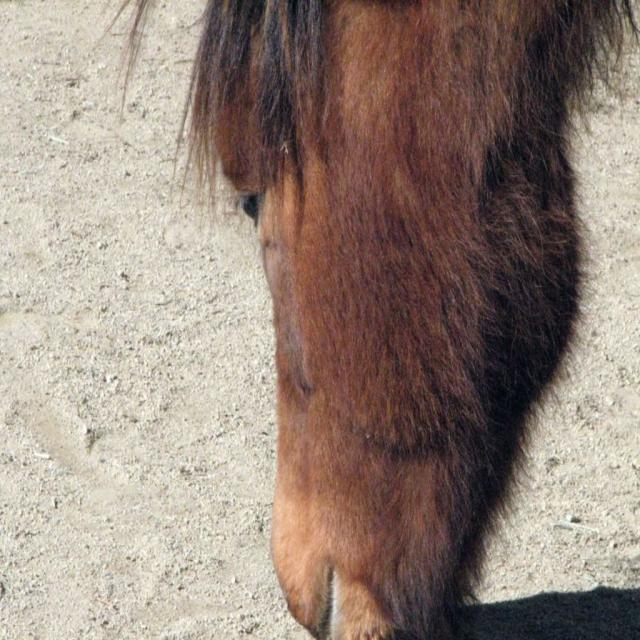Horse: (98, 0, 637, 639)
